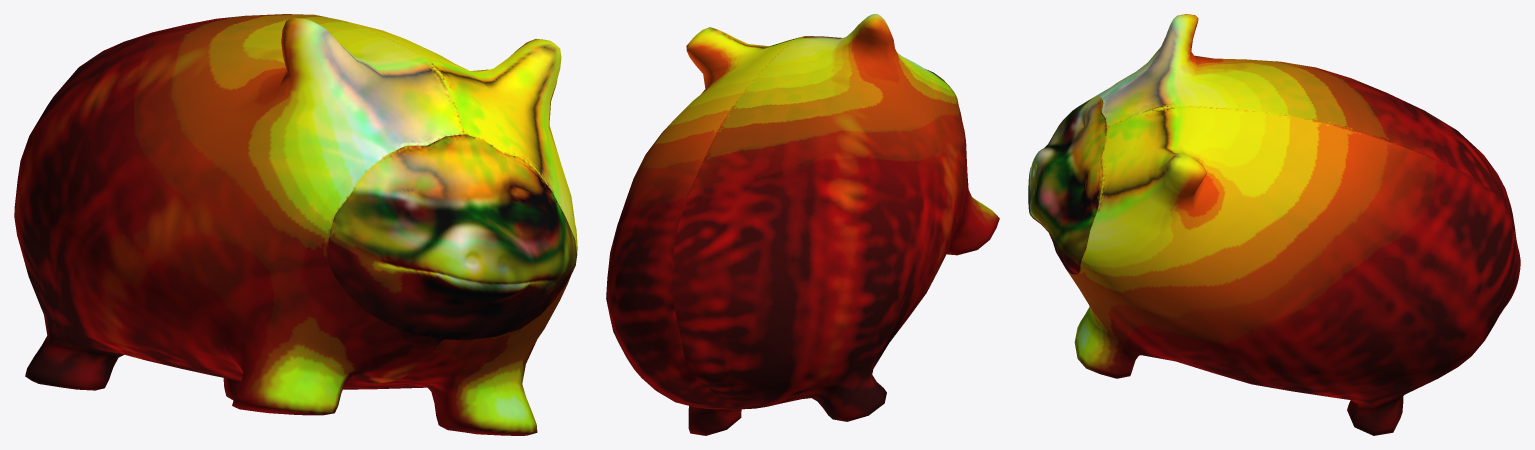
The model's file is pigwalking2.gltf.
3 renders of one model, left to right at view 1: azimuth 30°, elevation 25°; view 2: azimuth 150°, elevation 25°; view 3: azimuth 270°, elevation 25°, orthographic. The views are drawn at different scales.
Visible parts, largest first — view 1: pig_Cube.004; view 2: pig_Cube.004; view 3: pig_Cube.004.
Boxes of the visible parts, box(x1,y1,x2,y2) form: pig_Cube.004: box(14, 14, 577, 435); pig_Cube.004: box(606, 14, 999, 435); pig_Cube.004: box(1028, 14, 1520, 435).
Bounding box in the file's own units: 3.79 × 4.55 × 5.41.
1 material, 1 textured.
